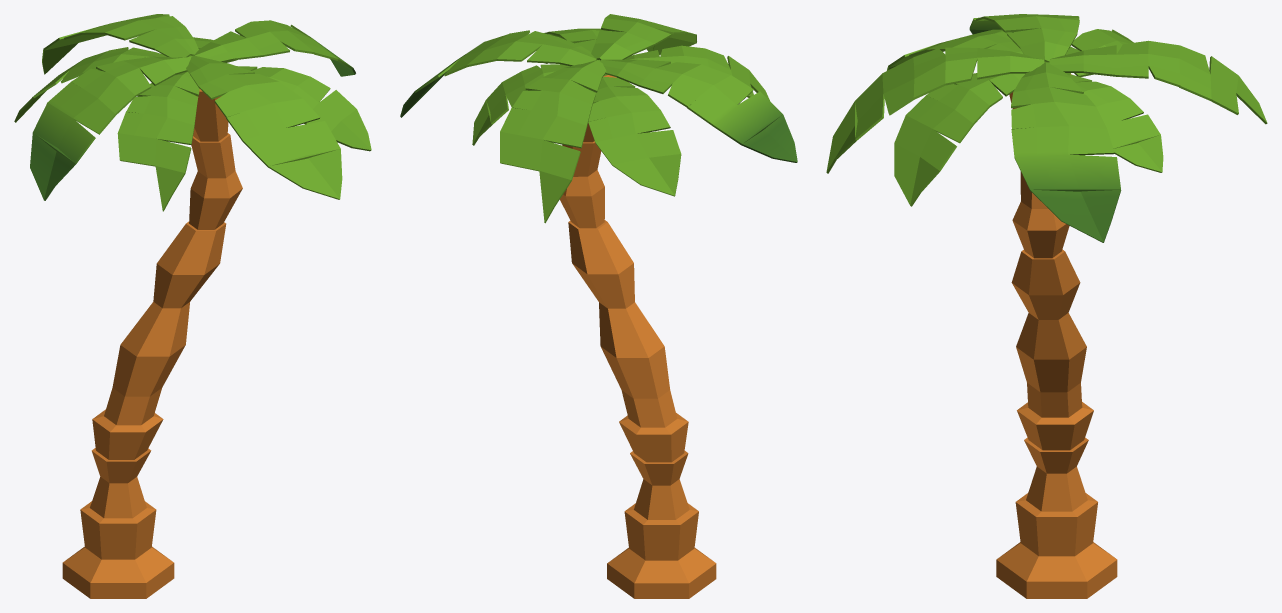
File: palm6 1.fbx
3 renders of one model, left to right at view 1: azimuth 30°, elevation 25°; view 2: azimuth 150°, elevation 25°; view 3: azimuth 270°, elevation 25°, orthographic. The views are drawn at different scales.
Parts seen in each view (by area): view 1: Cylinder; view 2: Cylinder; view 3: Cylinder.
Part boxes in pixels (x1=…): Cylinder: x1=14, y1=14, x2=371, y2=598; Cylinder: x1=400, y1=14, x2=797, y2=598; Cylinder: x1=826, y1=14, x2=1267, y2=598.
Size of the model in its own units: 971 by 1355 by 971.
Materials: 1 (1 with a texture image).
